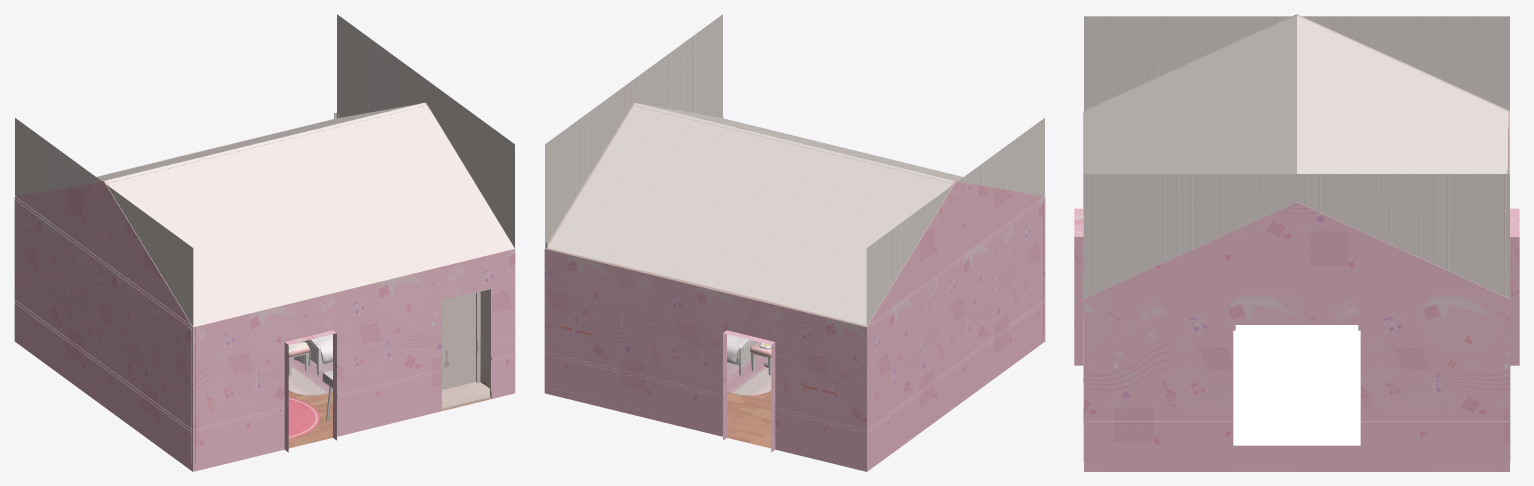
File: room.glb
The picture shows the model from 3 angles, left to right: view 1: azimuth 30°, elevation 25°; view 2: azimuth 150°, elevation 25°; view 3: azimuth 270°, elevation 25°; orthographic projection. The views are drawn at different scales.
Parts seen in each view (by area): view 1: WallBedroom, Bedroom WardrobeDoorL, Bedroom Wardrobe, FloorBedroom, BedRoomCarpet, Bedroom Carpet, Bed, Bedroom BedSeat; view 2: WallBedroom, FloorBedroom, BedRoomCarpet, Bed; view 3: WallBedroom, QuadStreet 1, Windows Bedroom.
Boxes of the visible parts, bbox=[...] form: WallBedroom: bbox=[14, 14, 515, 471]; Bedroom WardrobeDoorL: bbox=[446, 293, 475, 388]; Bedroom Wardrobe: bbox=[442, 288, 491, 409]; FloorBedroom: bbox=[288, 391, 490, 448]; BedRoomCarpet: bbox=[288, 357, 332, 395]; Bedroom Carpet: bbox=[288, 397, 320, 438]; Bed: bbox=[303, 334, 332, 375]; Bedroom BedSeat: bbox=[288, 341, 310, 375]; WallBedroom: bbox=[544, 14, 1045, 471]; FloorBedroom: bbox=[727, 391, 771, 448]; BedRoomCarpet: bbox=[727, 355, 771, 395]; Bed: bbox=[727, 334, 757, 375]; WallBedroom: bbox=[1074, 14, 1519, 471]; QuadStreet 1: bbox=[1233, 330, 1360, 445]; Windows Bedroom: bbox=[1235, 325, 1358, 426].
Size of the model in its own units: 22.73 by 15.55 by 20.89.
75 materials, 63 textured.
